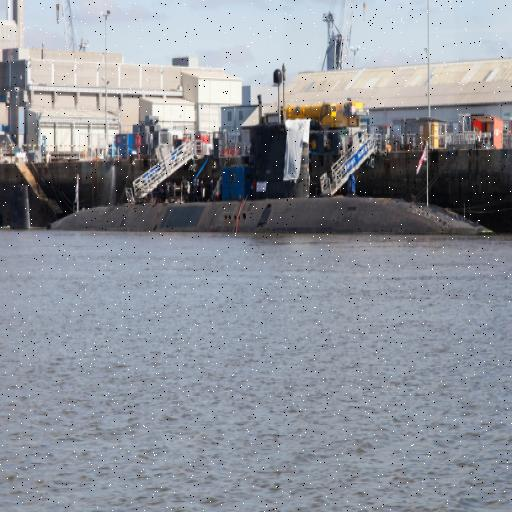submarine: (45, 110, 500, 235)
